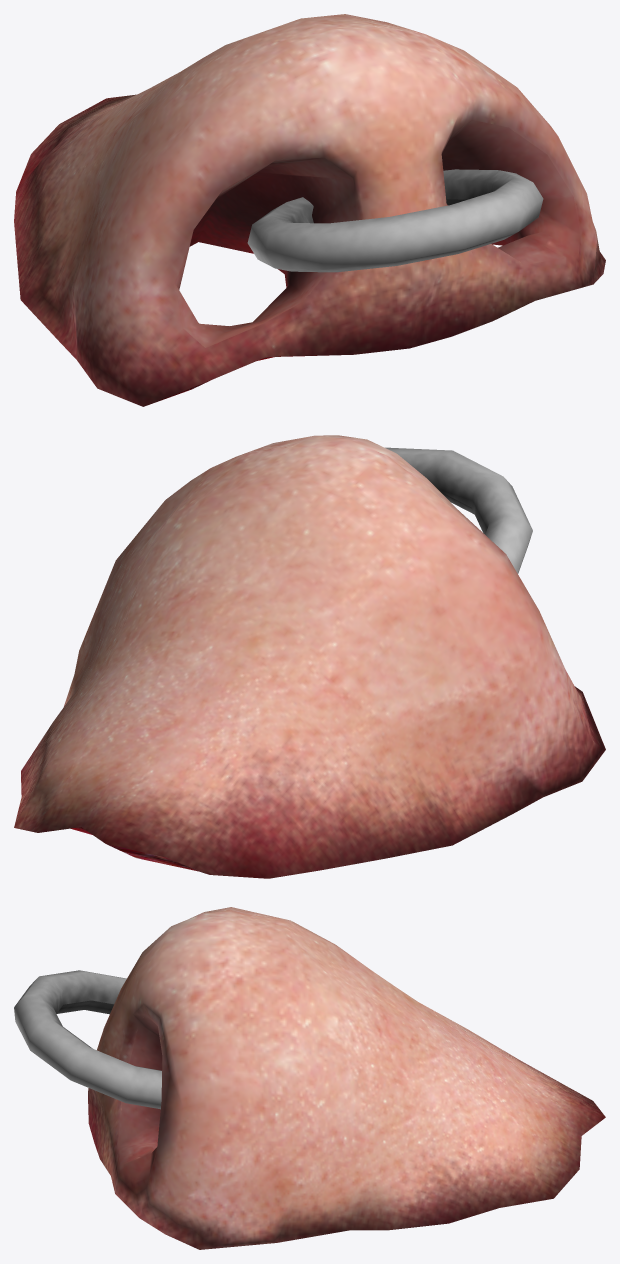
Rendered from Nose_1.fbx.
3 views of the same model, one above another, from view 1: azimuth 30°, elevation 25°; view 2: azimuth 150°, elevation 25°; view 3: azimuth 270°, elevation 25° (orthographic). The views are drawn at different scales.
Visible parts, largest first — view 1: nose_1, Ring_nose; view 2: nose_1, Ring_nose; view 3: nose_1, Ring_nose.
Part boxes in pixels (bbox=[...]): nose_1: bbox=[14, 14, 605, 406]; Ring_nose: bbox=[247, 169, 543, 272]; nose_1: bbox=[14, 435, 605, 878]; Ring_nose: bbox=[385, 447, 532, 573]; nose_1: bbox=[88, 907, 605, 1249]; Ring_nose: bbox=[14, 970, 161, 1109].
Bounding box in the file's own units: 0.042 × 0.0236 × 0.0526.
